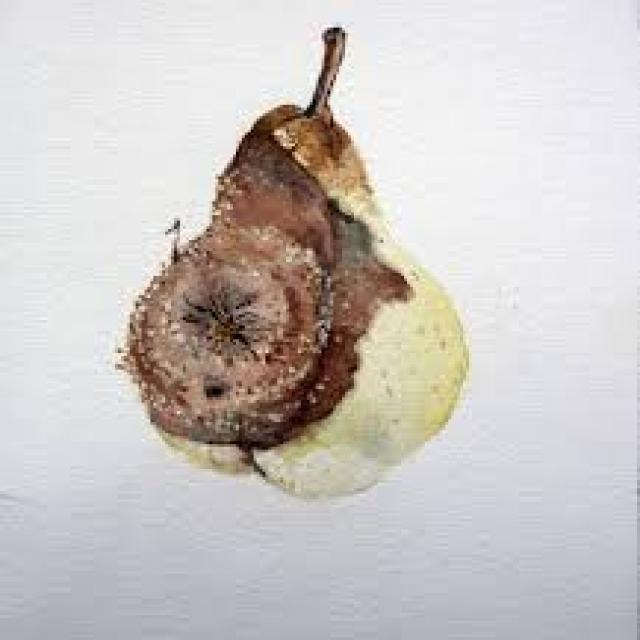organic waste: (124, 25, 472, 499)
